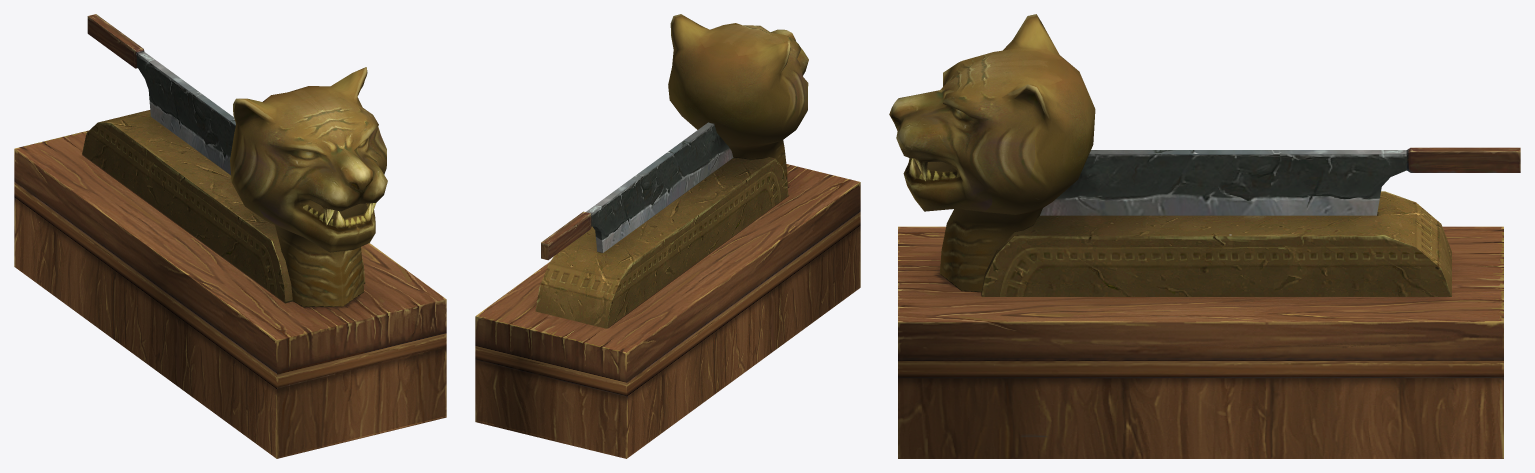
Rendered from Stage_DiXiaCheng_HuTouZa.FBX.
The picture shows the model from 3 angles, left to right: view 1: azimuth 30°, elevation 25°; view 2: azimuth 150°, elevation 25°; view 3: azimuth 270°, elevation 25°; orthographic projection. The views are drawn at different scales.
Parts seen in each view (by area): view 1: Stage_DiXiaCheng_HuTouZa; view 2: Stage_DiXiaCheng_HuTouZa; view 3: Stage_DiXiaCheng_HuTouZa.
Part boxes in pixels (left/top/right/bottom): Stage_DiXiaCheng_HuTouZa: left=14, top=14, right=446, bottom=458; Stage_DiXiaCheng_HuTouZa: left=475, top=14, right=860, bottom=458; Stage_DiXiaCheng_HuTouZa: left=889, top=14, right=1520, bottom=458.
Size of the model in its own units: 73.4 by 129 by 205.
